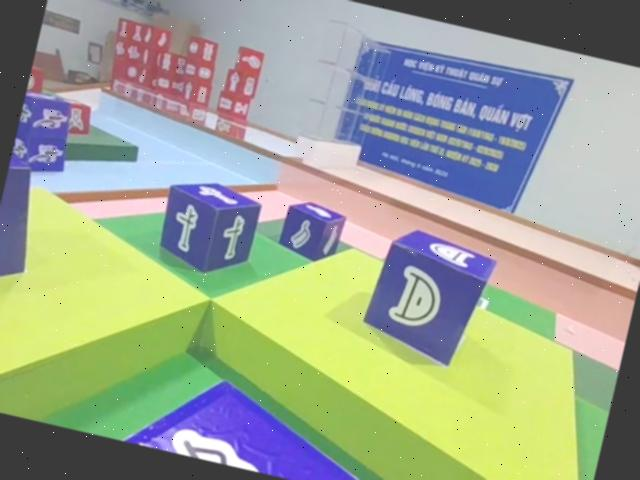R2 Real Blue: (355, 224, 499, 376), (148, 175, 263, 285), (0, 141, 51, 328), (278, 196, 351, 266)
